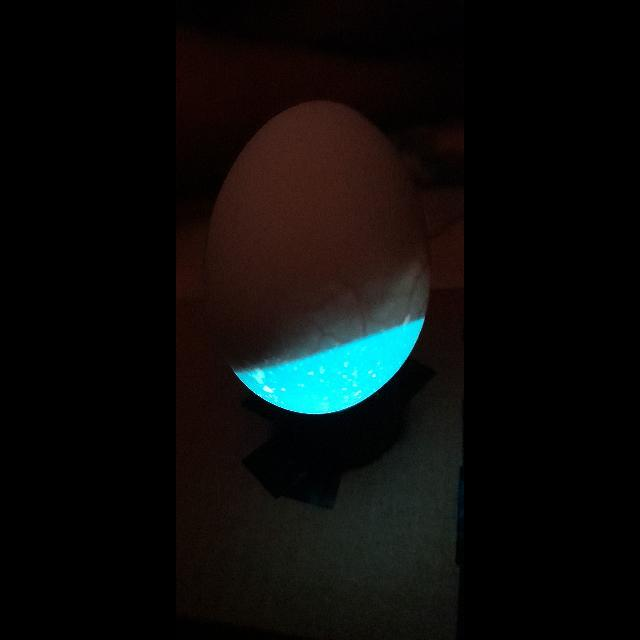Fertile: (206, 98, 430, 418)
